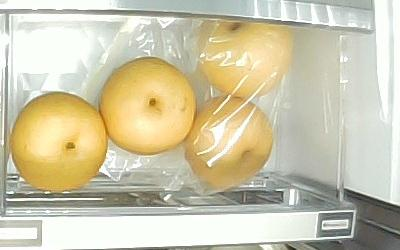pear: (100, 57, 199, 155), (11, 92, 108, 191)
pear_vinyl: (185, 96, 274, 189), (199, 19, 293, 97)
